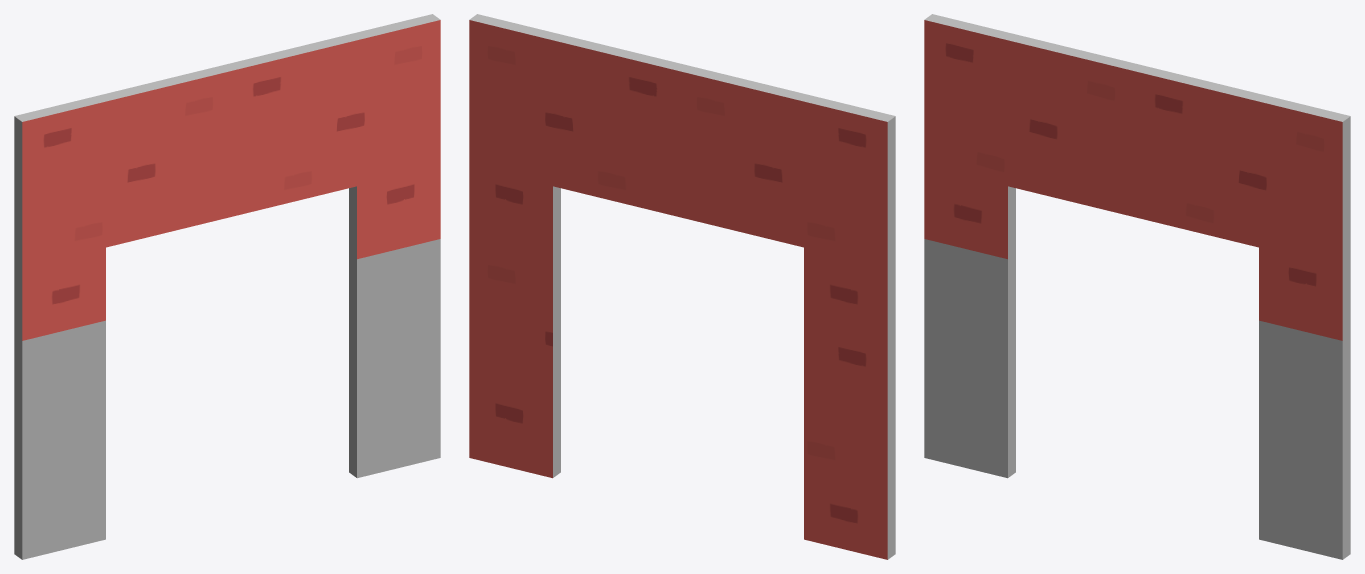
File: Wh_Door_Big_Empty.fbx
3 renders of one model, left to right at view 1: azimuth 30°, elevation 25°; view 2: azimuth 150°, elevation 25°; view 3: azimuth 330°, elevation 25°, orthographic.
Parts seen in each view (by area): view 1: Cube.969; view 2: Cube.969; view 3: Cube.969.
Part boxes in pixels (left/top/right/bottom): Cube.969: left=14, top=14, right=440, bottom=559; Cube.969: left=469, top=14, right=895, bottom=559; Cube.969: left=924, top=14, right=1350, bottom=559.
Bounding box in the file's own units: 600 × 600 × 20.
